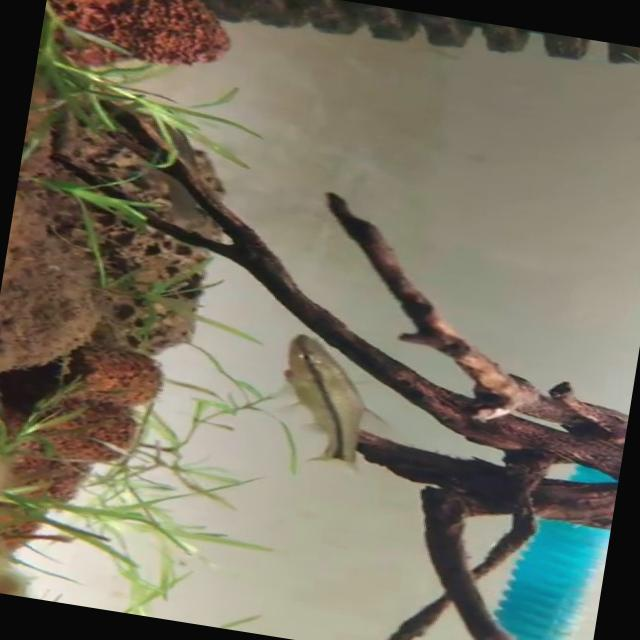Cakil Baligi: (268, 329, 400, 474)
